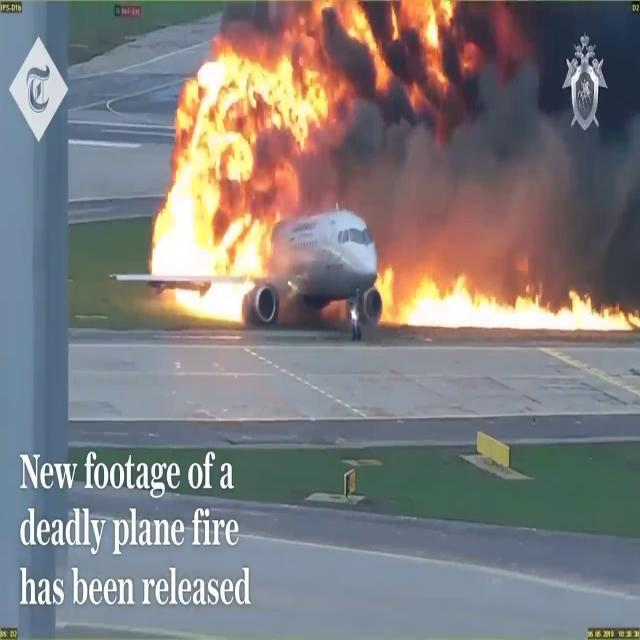Fire: (140, 0, 382, 336), (366, 246, 638, 334)
Smoke: (388, 0, 640, 238)
